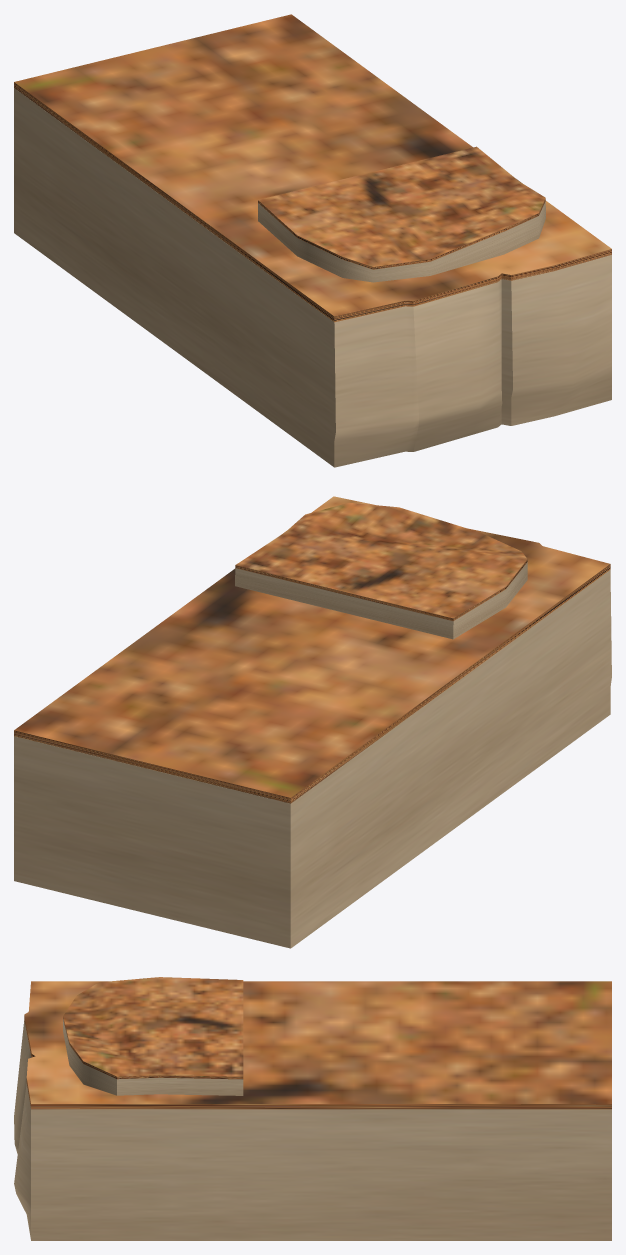
File: Border_3(3).fbx
The picture shows the model from 3 angles, top to bottom: view 1: azimuth 30°, elevation 25°; view 2: azimuth 150°, elevation 25°; view 3: azimuth 270°, elevation 25°; orthographic projection. The views are drawn at different scales.
Parts seen in each view (by area): view 1: BORDER_3, BORDER_3_TOP, BORDER_3_TOP2; view 2: BORDER_3, BORDER_3_TOP, BORDER_3_TOP2; view 3: BORDER_3, BORDER_3_TOP, BORDER_3_TOP2.
Boxes of the visible parts, x1,y1,x2,y2 form: BORDER_3: (14, 88, 611, 467); BORDER_3_TOP: (14, 14, 611, 322); BORDER_3_TOP2: (258, 146, 545, 269); BORDER_3: (14, 562, 611, 948); BORDER_3_TOP: (14, 496, 610, 803); BORDER_3_TOP2: (235, 502, 527, 621); BORDER_3: (14, 1019, 611, 1240); BORDER_3_TOP: (24, 981, 611, 1109); BORDER_3_TOP2: (63, 977, 243, 1079).
Bounding box in the file's own units: 5000 × 3043 × 10295.
2 materials, 2 textured.
